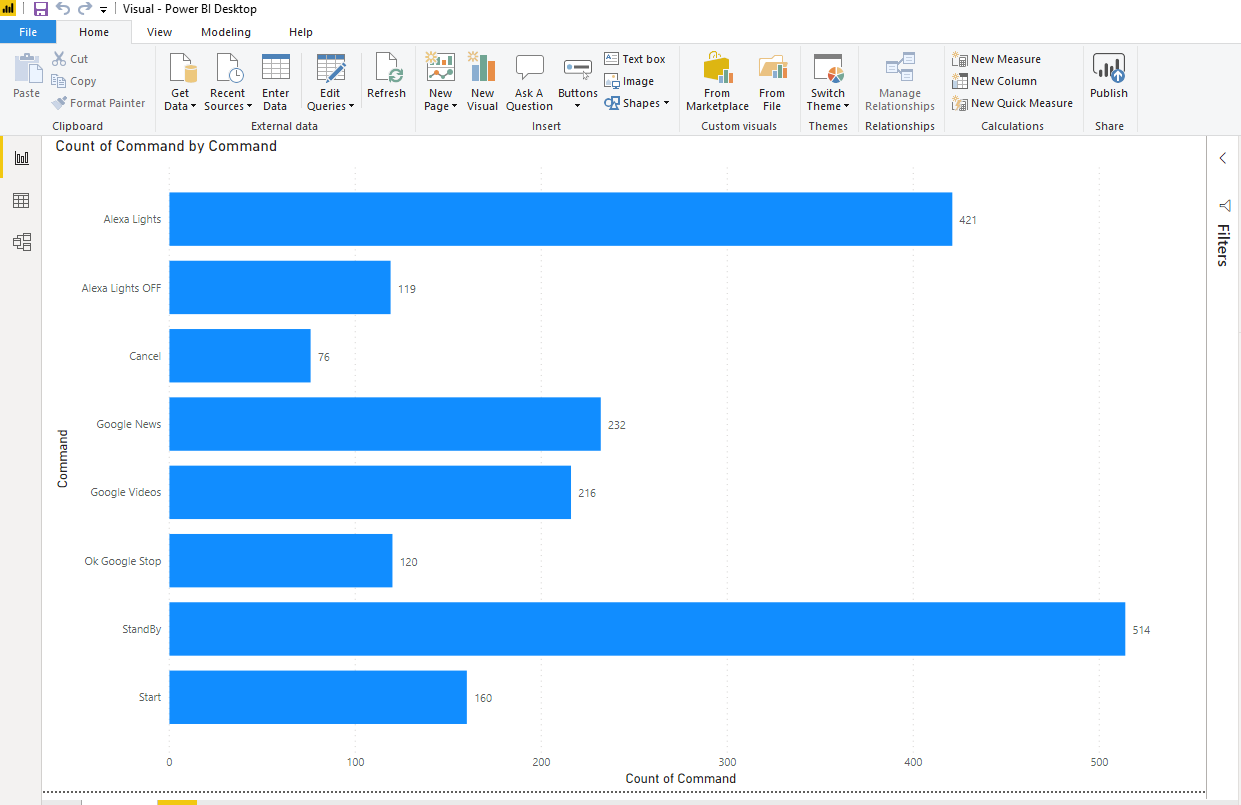

Layout of this report page (visuals, bound fields, positions):
{"tool":"powerbi","page":{"name":"Page 1","canvas":[1280,720],"ordinal":0},"visuals":[{"type":"barChart","fields":{"Category":["Images.Command"],"Y":["CountNonNull(Images.Command)"]},"box":[10.3,0,1269.7,719.7],"z":0}]}

Visuals, with their boxes on the page's 1280x720 design canvas (x1, y1, x2, y2). These are canvas units, not pixel positions in the 1241x805 screenshot, which may show the page scaled, cropped or inside an application window:
barChart - Images.Command x CountNonNull(Images.Command): bbox=(10, 0, 1280, 720)
